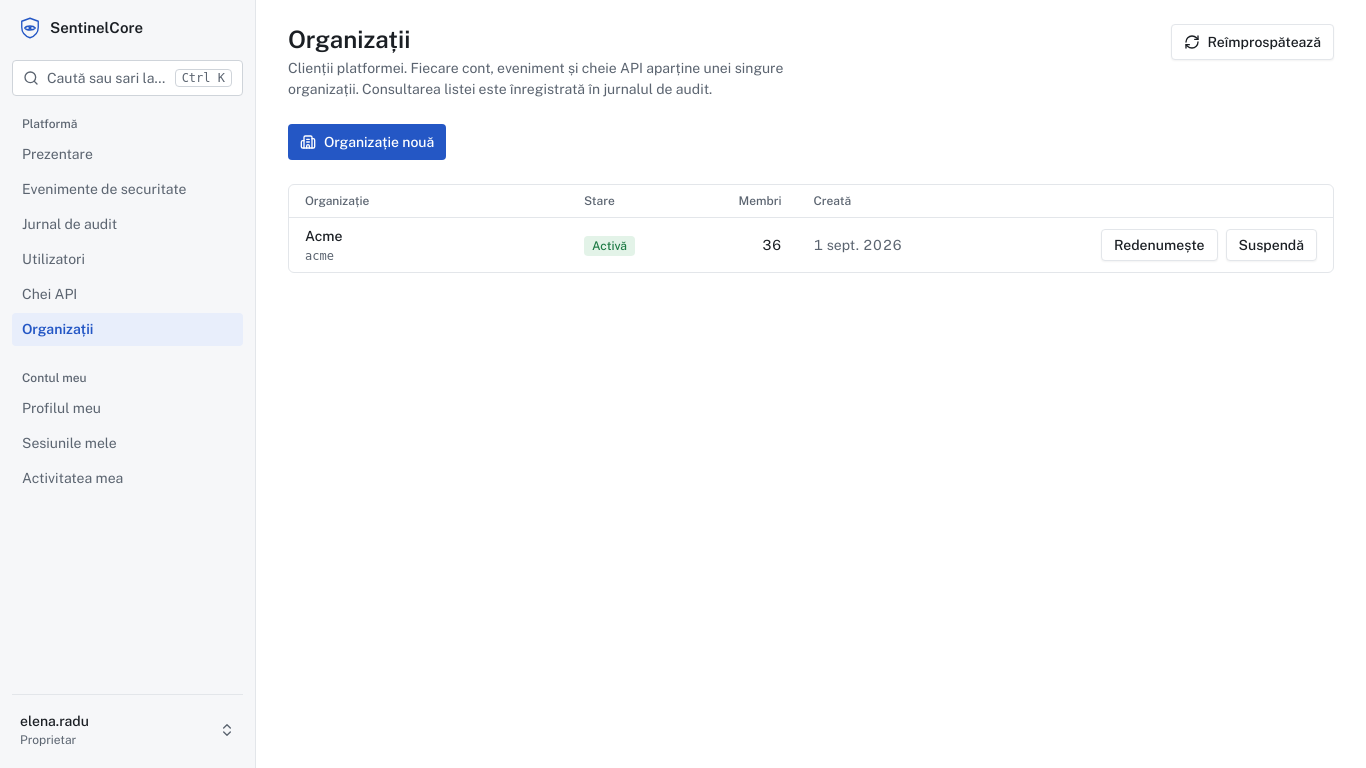
organizations page › says when the name or slug is taken
Click the button "Organizație nouă" at (367, 142), box [288,124,446,160]
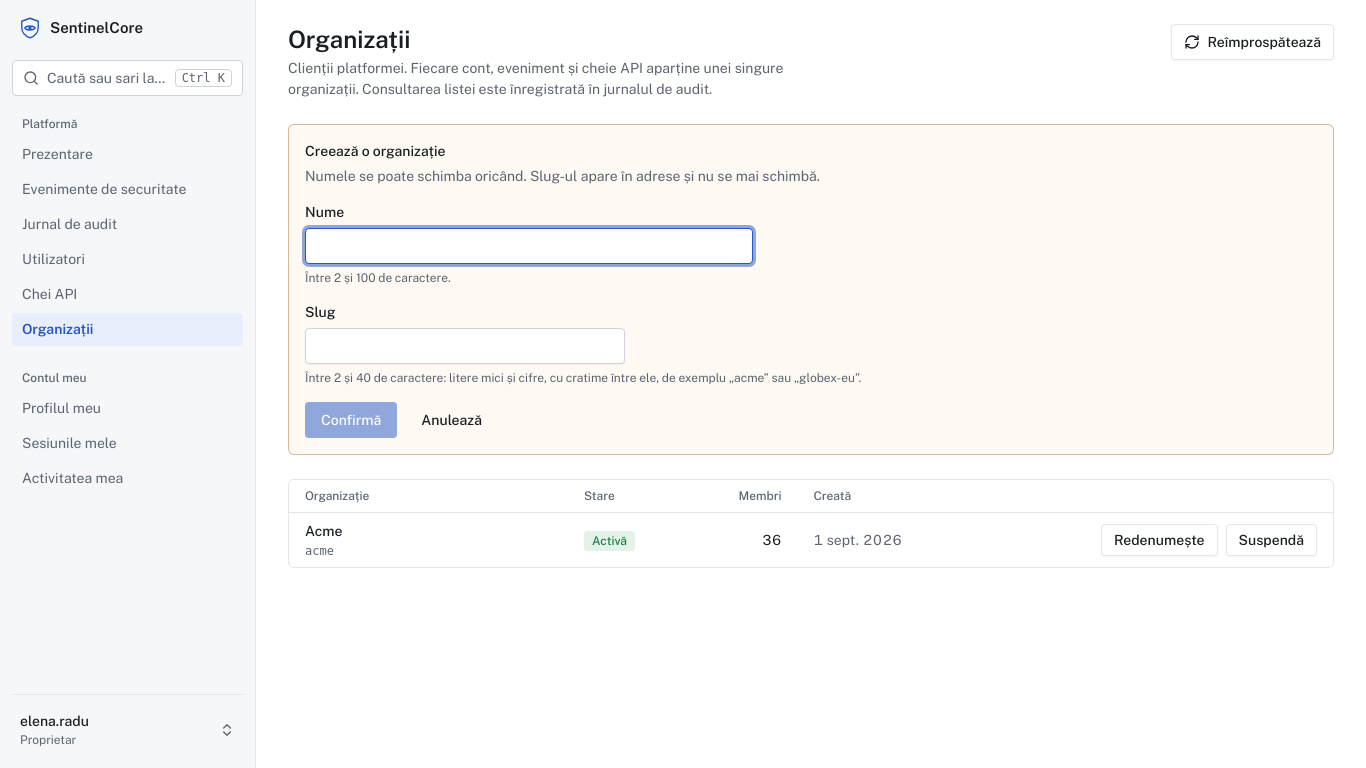
Type "Acme" into the field labelled "Nume" at (529, 246), box [305,228,753,264]
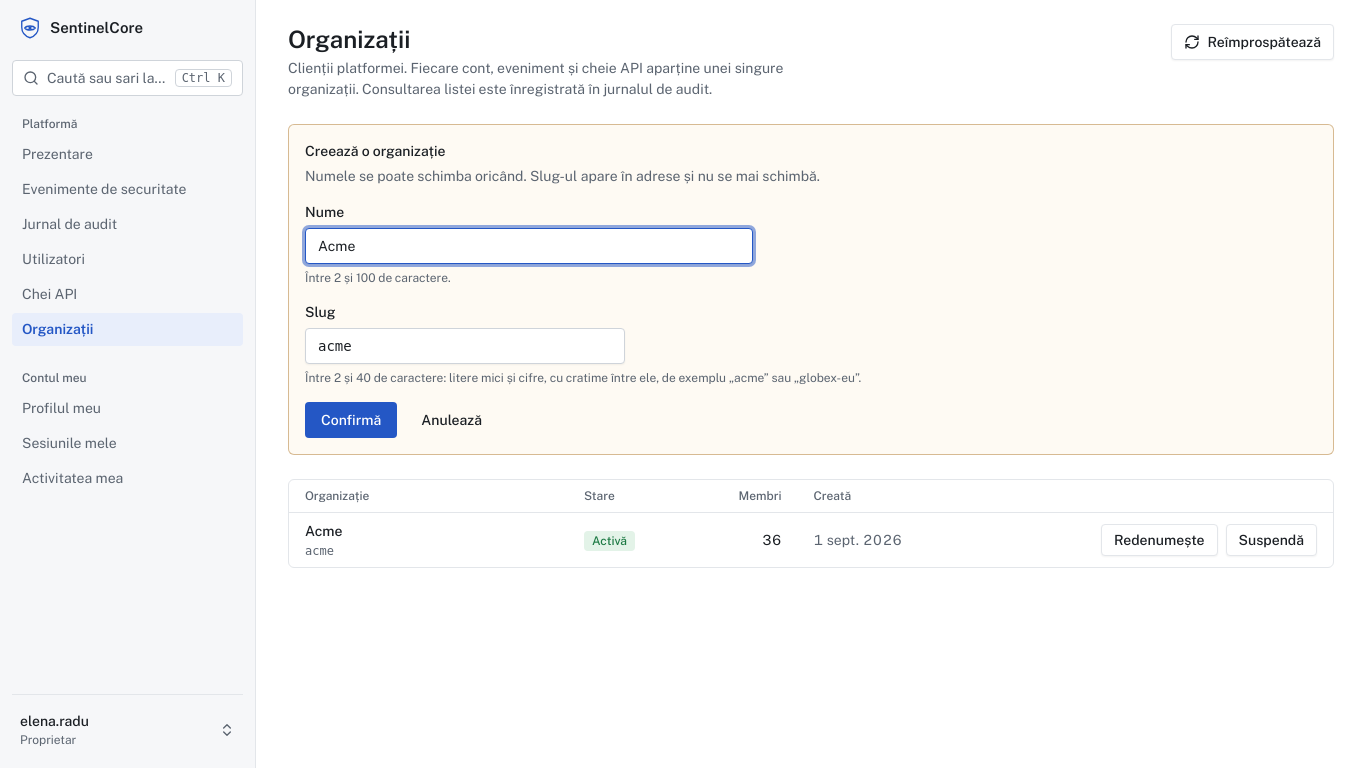
Click the button "Confirmă" at (351, 420), box [305,402,397,438]
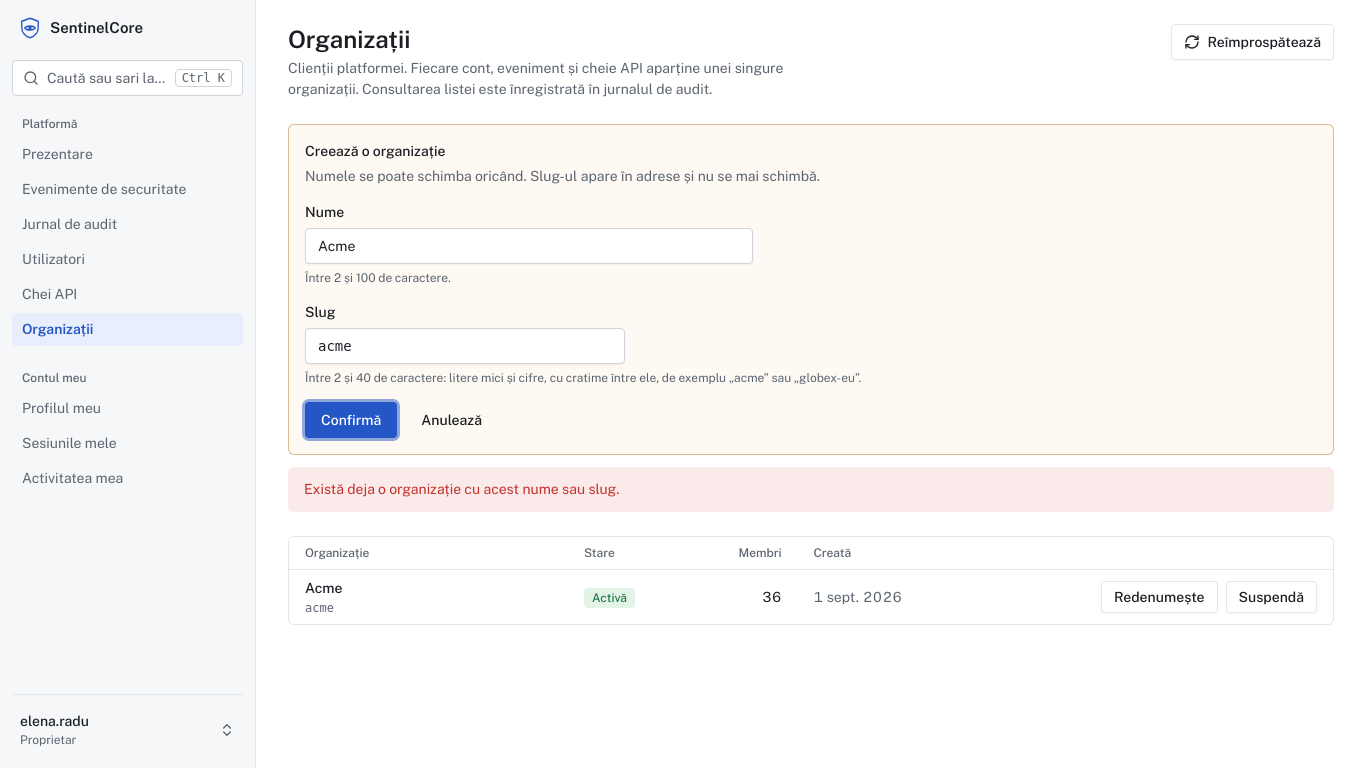
expect the message reads "Există deja o organizație cu acest nume sau slug.": met, box [304,481,620,497]
